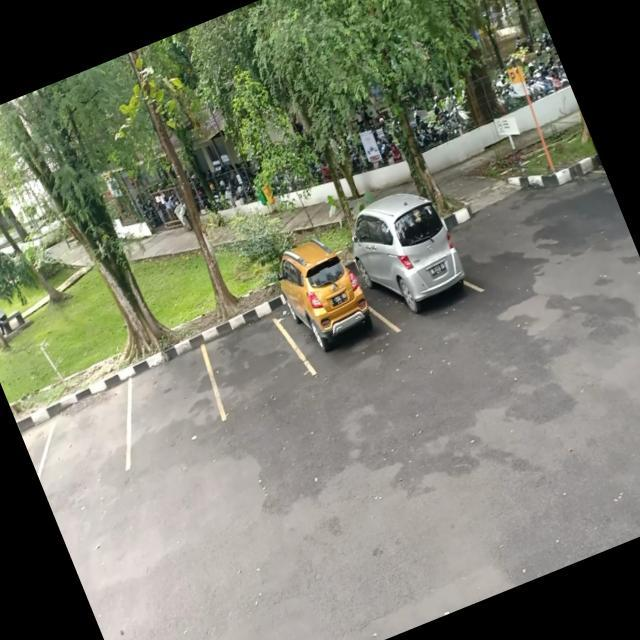empty: (12, 362, 151, 500), (105, 324, 228, 456), (186, 286, 308, 416)
occupied: (344, 197, 480, 336), (264, 238, 390, 374)
